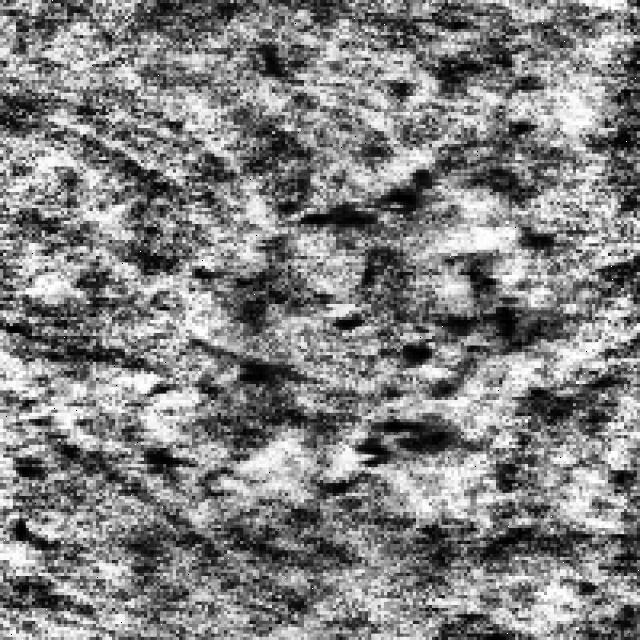Crazing: (253, 163, 509, 474), (3, 368, 115, 531)
